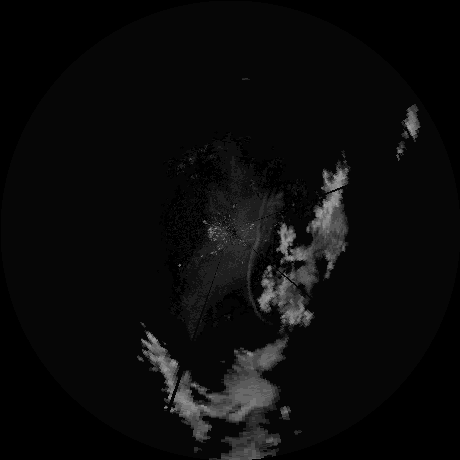frontgust: (247, 194, 268, 299)
